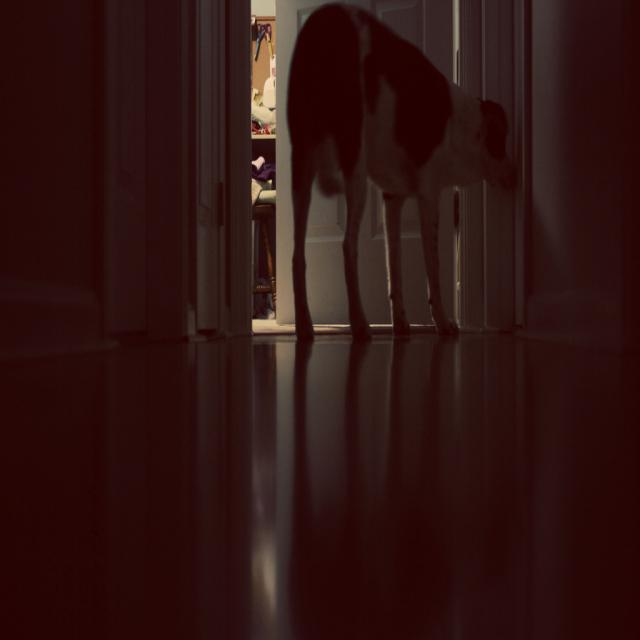dog: (258, 21, 555, 322)
